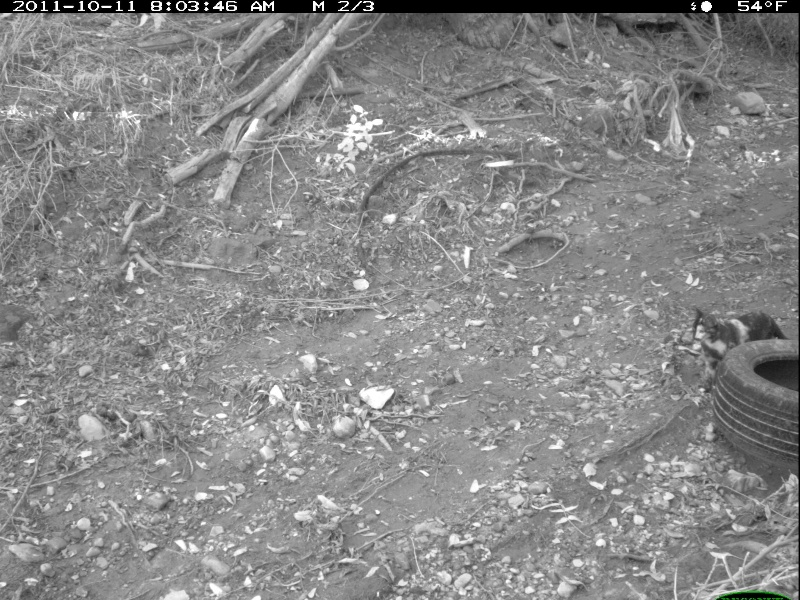cat: (688, 306, 787, 408)
